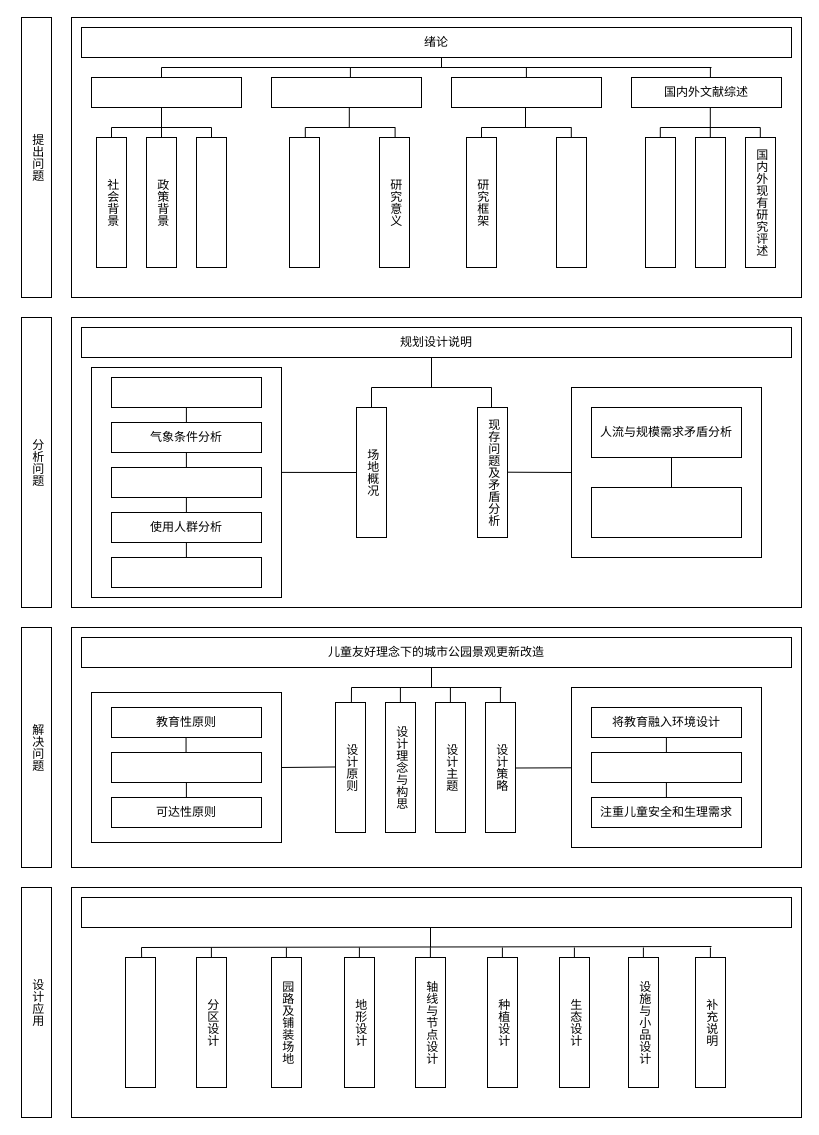
The diagram is 819 pixels wide and 1135 high, and some of its shapes have lost their labels. The shapes that lost their labels are listed below. From the top down, each one's centre as x and y in pixels, then its label:
the point at 166,92: 研究背景
the point at 346,92: 研究目的与意义
the point at 526,92: 研究框架与方法
the point at 211,202: 现状背景
the point at 304,202: 研究目的
the point at 571,202: 研究方法
the point at 660,202: 国外相关研究
the point at 710,202: 国内相关研究
the point at 186,392: 区位分析
the point at 186,482: 人文条件分析
the point at 666,512: 人群使用者需求以及现状矛盾分析
the point at 186,572: 周边条件分析
the point at 186,767: 互动性原则
the point at 666,767: 打造互动性趣味场地
the point at 436,912: 总体规划设计
the point at 140,1022: 总体设计
